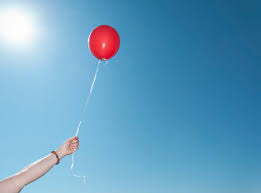Balloon: (87, 24, 120, 61)
